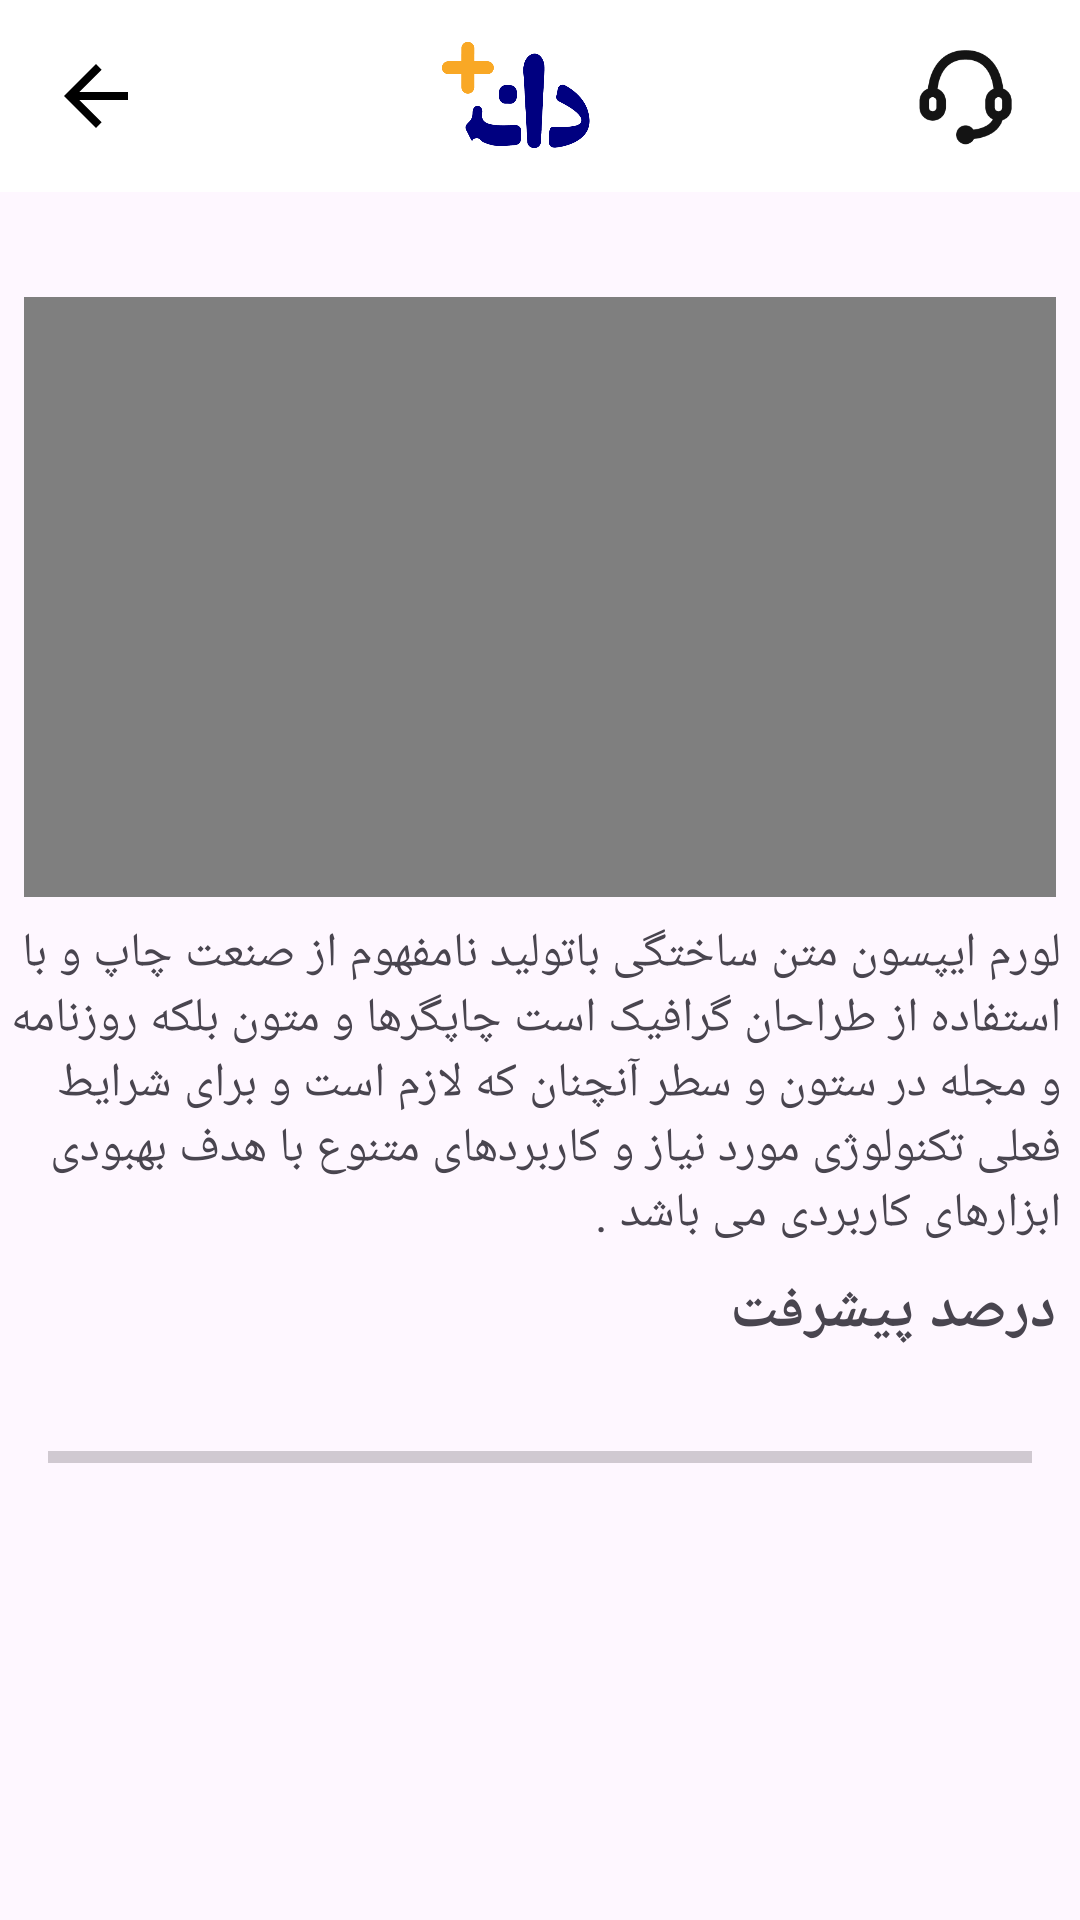

Icon bounding boxes for this 1080*1920 phone screenshot, format (x1, y1, x2, y2):
support: (919, 50, 1012, 145)
